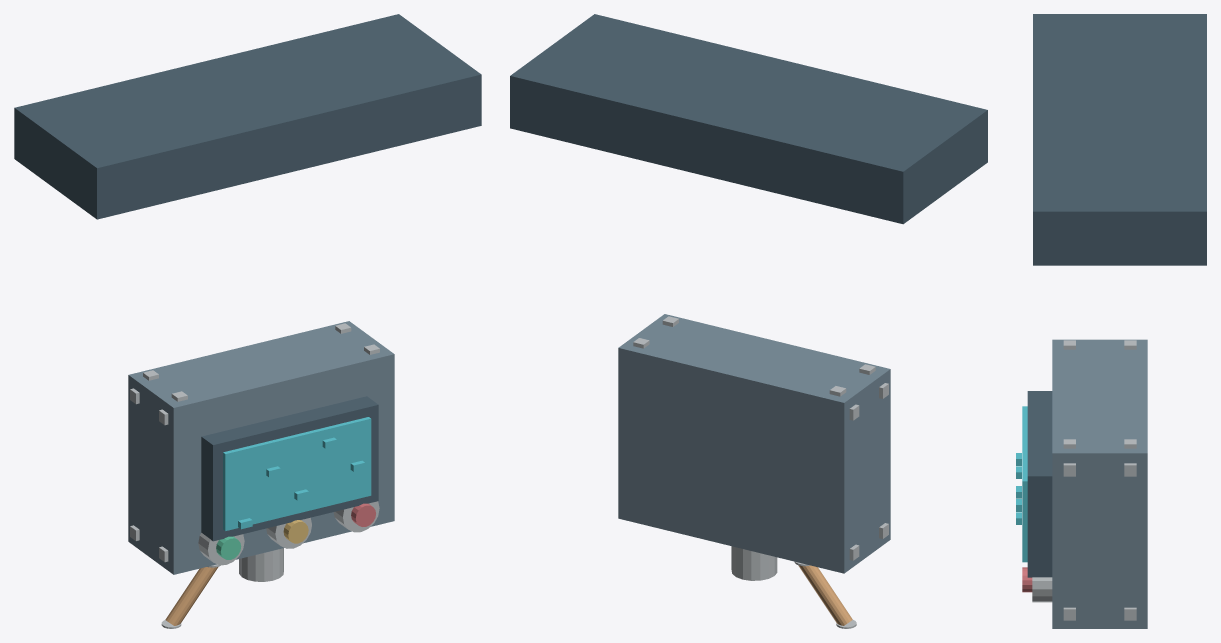
File: 51_L77_WaferSurfaceDefectInspectionCamera.glb
3 views of the same model, side by side, from view 1: azimuth 30°, elevation 25°; view 2: azimuth 150°, elevation 25°; view 3: azimuth 270°, elevation 25° (orthographic). The views are drawn at different scales.
Visible parts, largest first — view 1: WaferSurfaceDefectInspectionCamera_Node_0026, WaferSurfaceDefectInspectionCamera_Node_0000, WaferSurfaceDefectInspectionCamera_Node_0010, WaferSurfaceDefectInspectionCamera_Node_0009, WaferSurfaceDefectInspectionCamera_Node_0022, WaferSurfaceDefectInspectionCamera_Node_0023; view 2: WaferSurfaceDefectInspectionCamera_Node_0026, WaferSurfaceDefectInspectionCamera_Node_0000, WaferSurfaceDefectInspectionCamera_Node_0022, WaferSurfaceDefectInspectionCamera_Node_0023; view 3: WaferSurfaceDefectInspectionCamera_Node_0026, WaferSurfaceDefectInspectionCamera_Node_0000, WaferSurfaceDefectInspectionCamera_Node_0009, WaferSurfaceDefectInspectionCamera_Node_0010, WaferSurfaceDefectInspectionCamera_Node_0020.
Part boxes in pixels (bbox=[...]): WaferSurfaceDefectInspectionCamera_Node_0026: bbox=[14, 14, 481, 219]; WaferSurfaceDefectInspectionCamera_Node_0000: bbox=[128, 321, 394, 574]; WaferSurfaceDefectInspectionCamera_Node_0010: bbox=[223, 417, 371, 530]; WaferSurfaceDefectInspectionCamera_Node_0009: bbox=[201, 396, 378, 541]; WaferSurfaceDefectInspectionCamera_Node_0022: bbox=[239, 548, 283, 581]; WaferSurfaceDefectInspectionCamera_Node_0023: bbox=[165, 567, 218, 625]; WaferSurfaceDefectInspectionCamera_Node_0026: bbox=[510, 14, 987, 224]; WaferSurfaceDefectInspectionCamera_Node_0000: bbox=[618, 314, 890, 573]; WaferSurfaceDefectInspectionCamera_Node_0022: bbox=[731, 546, 777, 580]; WaferSurfaceDefectInspectionCamera_Node_0023: bbox=[798, 565, 852, 625]; WaferSurfaceDefectInspectionCamera_Node_0026: bbox=[1033, 14, 1206, 265]; WaferSurfaceDefectInspectionCamera_Node_0000: bbox=[1052, 339, 1147, 628]; WaferSurfaceDefectInspectionCamera_Node_0009: bbox=[1027, 391, 1052, 577]; WaferSurfaceDefectInspectionCamera_Node_0010: bbox=[1022, 406, 1027, 562]; WaferSurfaceDefectInspectionCamera_Node_0020: bbox=[1032, 577, 1052, 602].
Bounding box in the file's own units: 0.94 × 1.19 × 0.384.
